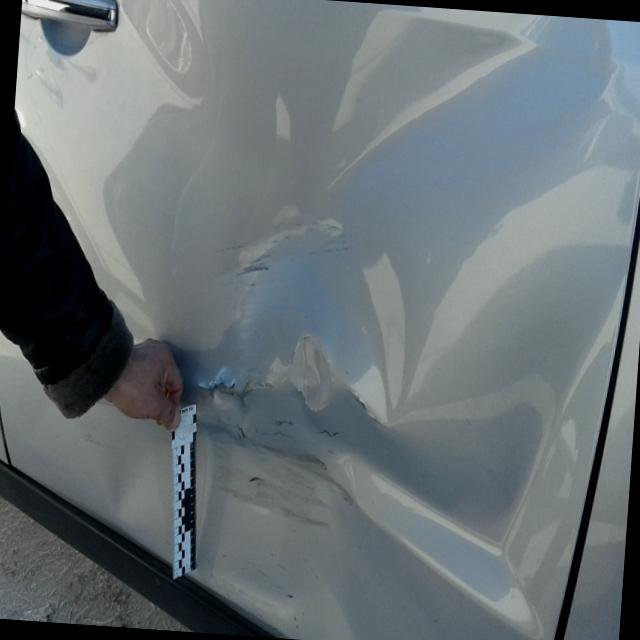Cabossage: (333, 362, 561, 640), (190, 309, 344, 633), (90, 400, 169, 525)
Dechirure: (280, 370, 341, 438), (196, 362, 259, 409), (342, 382, 392, 434)
Rayure: (200, 409, 363, 551), (214, 203, 364, 303), (214, 551, 329, 637)
